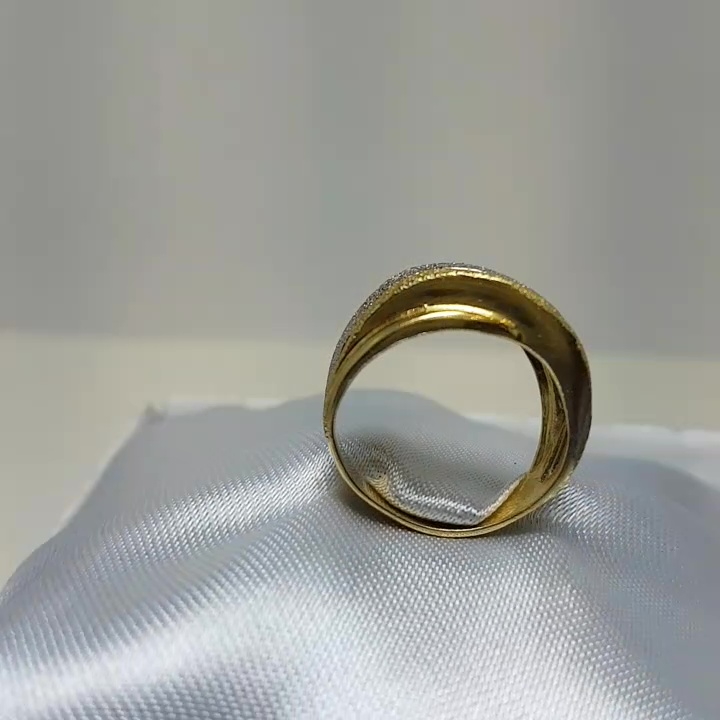Ring 5: (302, 247, 605, 556)
